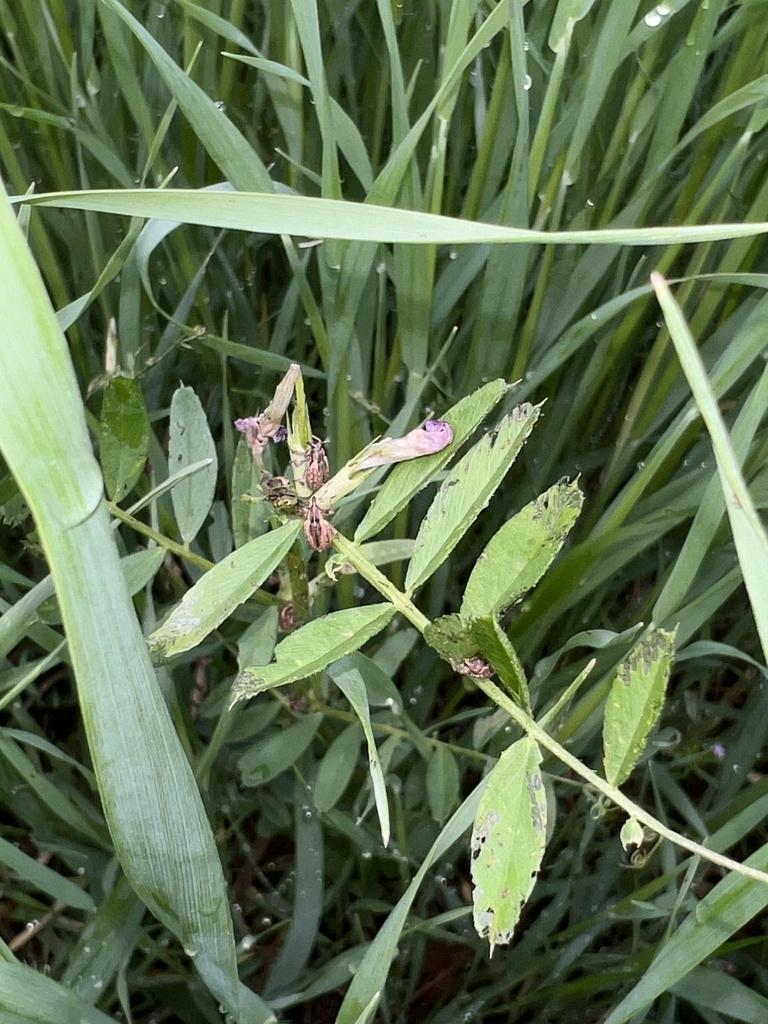weevils: (290, 428, 344, 503), (285, 490, 342, 558)
